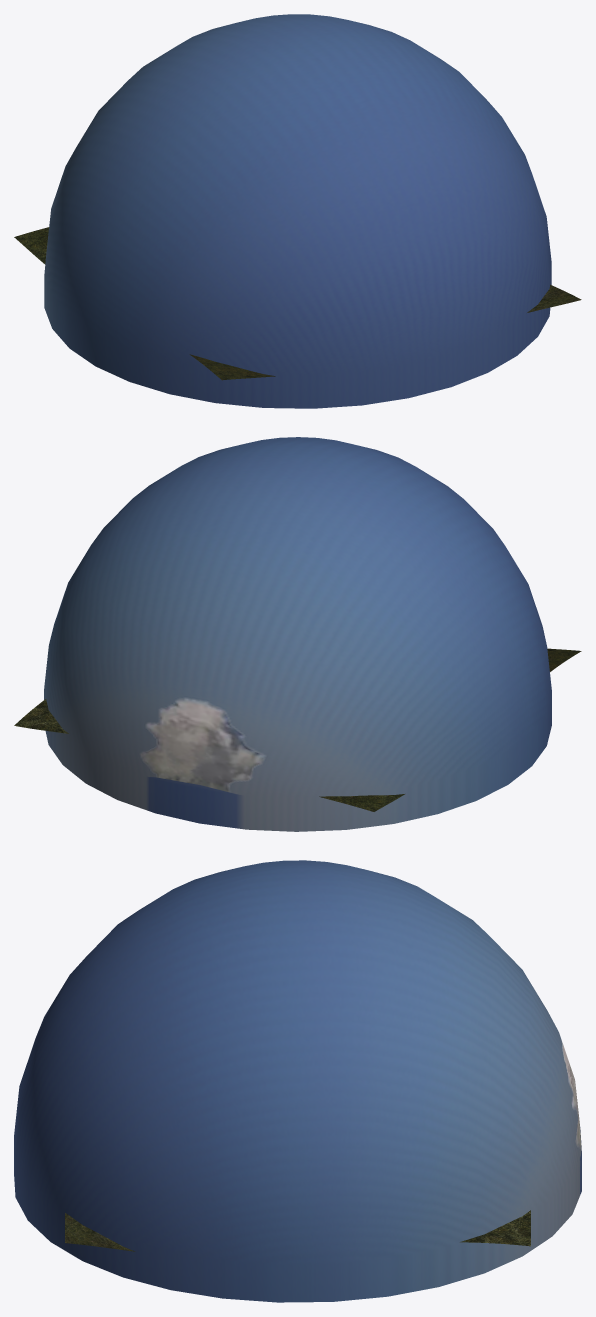
Rendered from Dreamcore.fbx.
3 views of the same model, one above another, from view 1: azimuth 30°, elevation 25°; view 2: azimuth 150°, elevation 25°; view 3: azimuth 270°, elevation 25° (orthographic). The views are drawn at different scales.
Parts seen in each view (by area): view 1: Sphere_1, Plane_3; view 2: Sphere_1, Plane_3; view 3: Sphere_1, Plane_3.
Part boxes in pixels (left/top/right/bottom): Sphere_1: left=44, top=14, right=551, bottom=408; Plane_3: left=14, top=227, right=581, bottom=380; Sphere_1: left=44, top=437, right=551, bottom=831; Plane_3: left=14, top=648, right=581, bottom=811; Sphere_1: left=14, top=860, right=581, bottom=1302; Plane_3: left=65, top=1210, right=530, bottom=1251.
Bounding box in the file's own units: 11715 × 6733 × 11715.
